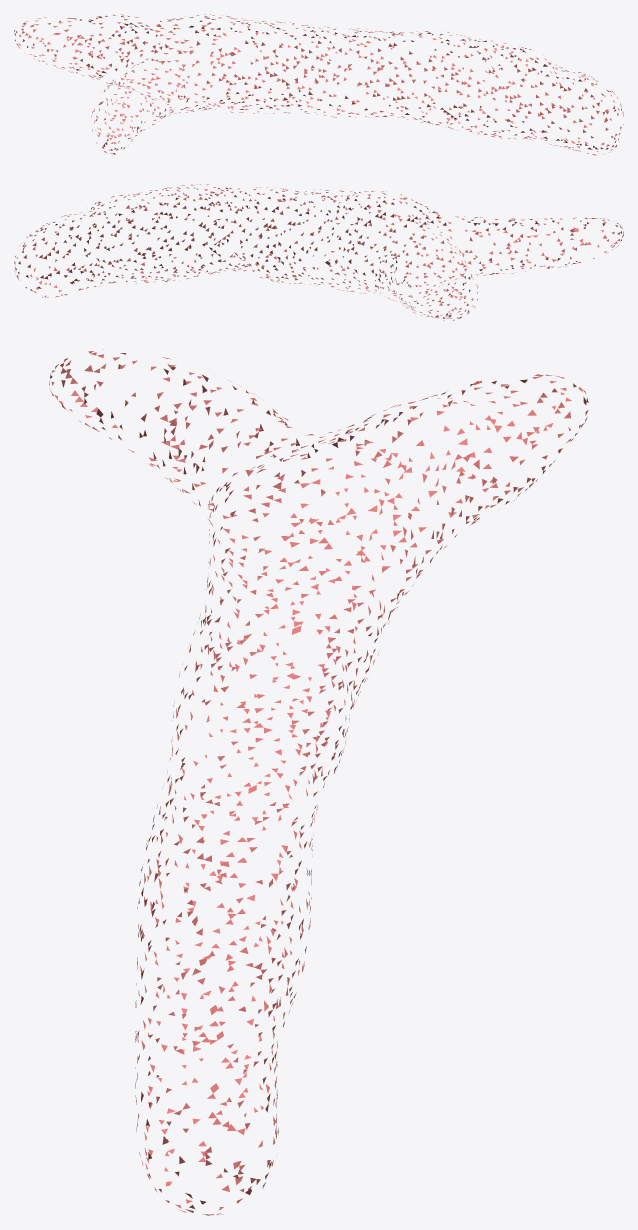
File: morph_000.glb
The picture shows the model from 3 angles, top to bottom: view 1: azimuth 30°, elevation 25°; view 2: azimuth 150°, elevation 25°; view 3: azimuth 270°, elevation 25°; orthographic projection. The views are drawn at different scales.
Bounding box in the file's own units: 106 × 36.57 × 44.51.
